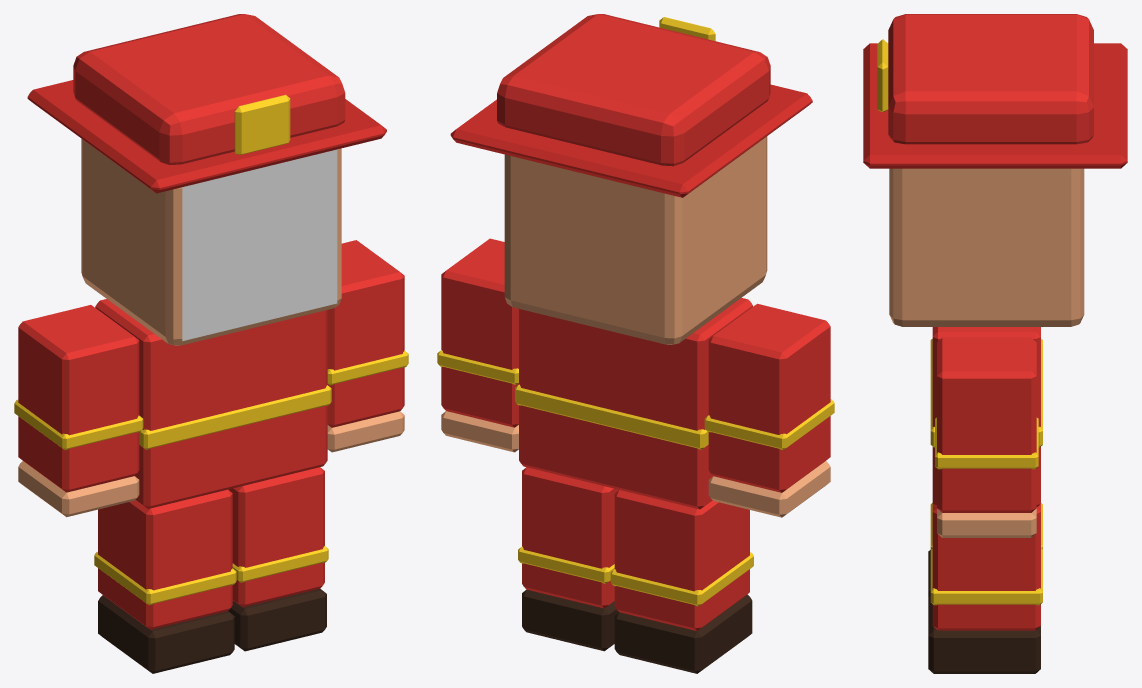
File: sparky.glb
3 views of the same model, side by side, from view 1: azimuth 30°, elevation 25°; view 2: azimuth 150°, elevation 25°; view 3: azimuth 270°, elevation 25° (orthographic).
Parts seen in each view (by area): view 1: Cube.004, Cube.015, Plane, Cube.005, Cube.009, Cube, Cube.007, Cube.002, Cube.016, Cube.001, Cube.003, Cube.010 (+7 smaller); view 2: Cube.009, Cube.015, Cube.004, Cube.005, Cube, Cube.007, Cube.016, Cube.002, Cube.001, Cube.003, Cube.010, Cube.006 (+6 smaller); view 3: Cube.009, Cube.015, Cube.007, Cube.016, Cube.002, Cube.003, Cube.004, Cube.008, Cube.014, Cube.012, Cube.017, Cube.010.
Part boxes in pixels (left/top/right/bottom): Cube.004: left=95, top=299, right=327, bottom=508; Cube.015: left=73, top=14, right=345, bottom=164; Plane: left=182, top=149, right=337, bottom=341; Cube.005: left=18, top=305, right=139, bottom=492; Cube.009: left=81, top=139, right=341, bottom=345; Cube: left=98, top=489, right=232, bottom=629; Cube.007: left=327, top=240, right=404, bottom=427; Cube.002: left=228, top=467, right=324, bottom=607; Cube.016: left=27, top=80, right=386, bottom=193; Cube.001: left=98, top=595, right=234, bottom=673; Cube.003: left=228, top=588, right=326, bottom=651; Cube.010: left=139, top=385, right=331, bottom=449; Cube.009: left=504, top=136, right=767, bottom=344; Cube.015: left=497, top=14, right=770, bottom=166; Cube.004: left=519, top=298, right=752, bottom=509; Cube.005: left=708, top=303, right=830, bottom=492; Cube: left=614, top=490, right=749, bottom=630; Cube.007: left=441, top=238, right=518, bottom=427; Cube.016: left=450, top=84, right=812, bottom=197; Cube.002: left=522, top=467, right=618, bottom=608; Cube.001: left=614, top=594, right=752, bottom=673; Cube.003: left=522, top=589, right=618, bottom=651; Cube.010: left=515, top=384, right=708, bottom=449; Cube.006: left=708, top=461, right=830, bottom=517; Cube.009: left=889, top=168, right=1084, bottom=326; Cube.015: left=888, top=14, right=1093, bottom=144; Cube.007: left=937, top=337, right=1036, bottom=512; Cube.016: left=863, top=43, right=1127, bottom=168; Cube.002: left=932, top=504, right=1040, bottom=630; Cube.003: left=928, top=595, right=1040, bottom=673; Cube.004: left=932, top=327, right=1040, bottom=506; Cube.008: left=937, top=508, right=1036, bottom=537; Cube.014: left=930, top=549, right=1042, bottom=605; Cube.012: left=935, top=417, right=1038, bottom=469; Cube.017: left=877, top=39, right=888, bottom=111; Cube.010: left=930, top=339, right=1042, bottom=447.
Bounding box in the file's own units: 1.88 × 2.96 × 1.22.
